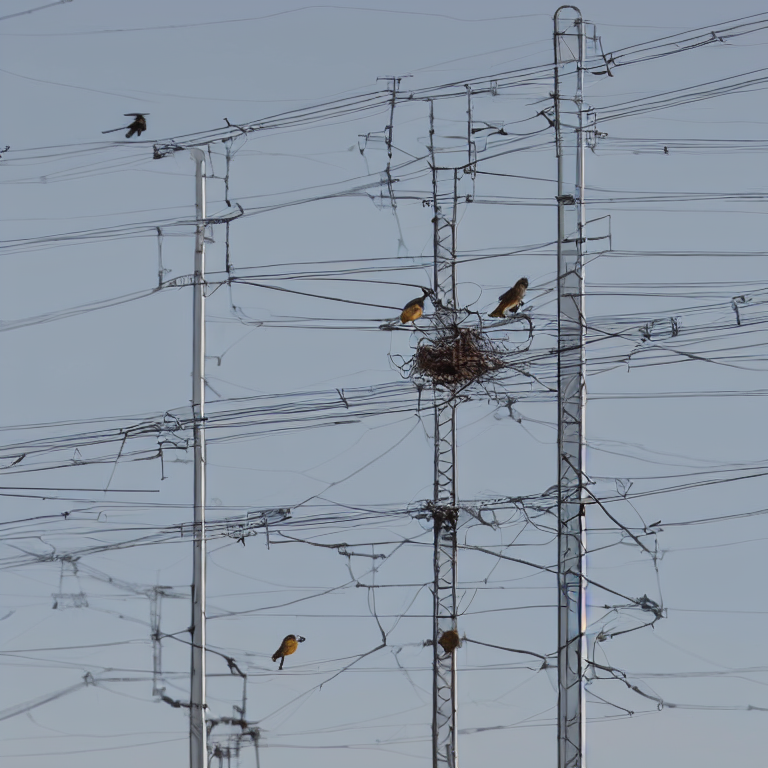nest: (416, 329, 496, 385)
